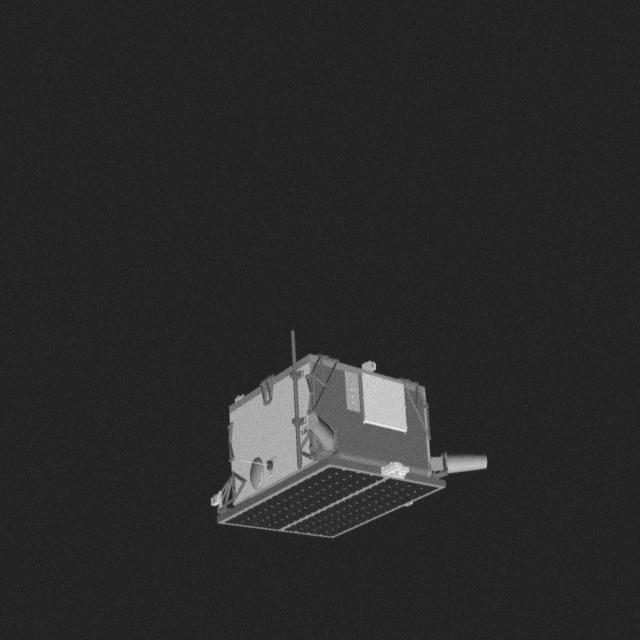satellite: (204, 324, 502, 546)
